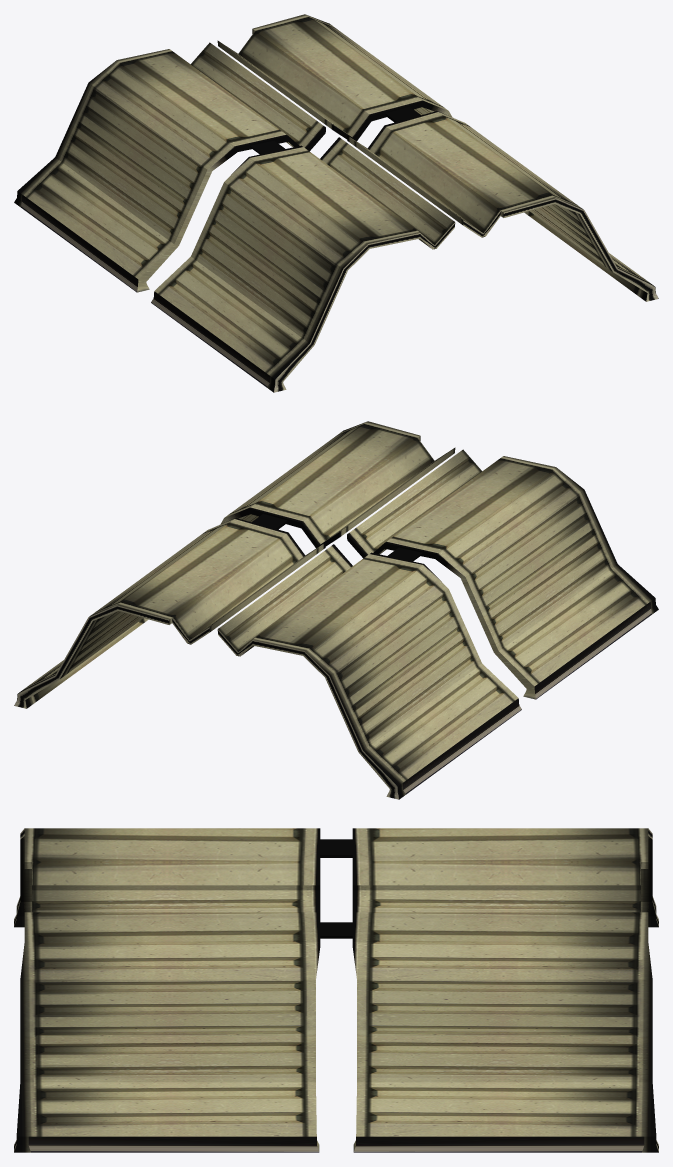
Rendered from Tunnel2.fbx.
3 views of the same model, one above another, from view 1: azimuth 30°, elevation 25°; view 2: azimuth 150°, elevation 25°; view 3: azimuth 270°, elevation 25° (orthographic). The views are drawn at different scales.
Parts seen in each view (by area): view 1: polySurface155; view 2: polySurface155; view 3: polySurface155.
Part boxes in pixels (<box>): polySurface155: <box>14,14,658,392</box>; polySurface155: <box>14,421,658,799</box>; polySurface155: <box>14,828,658,1152</box>.
Bounding box in the file's own units: 29.44 × 8.88 × 34.4.
